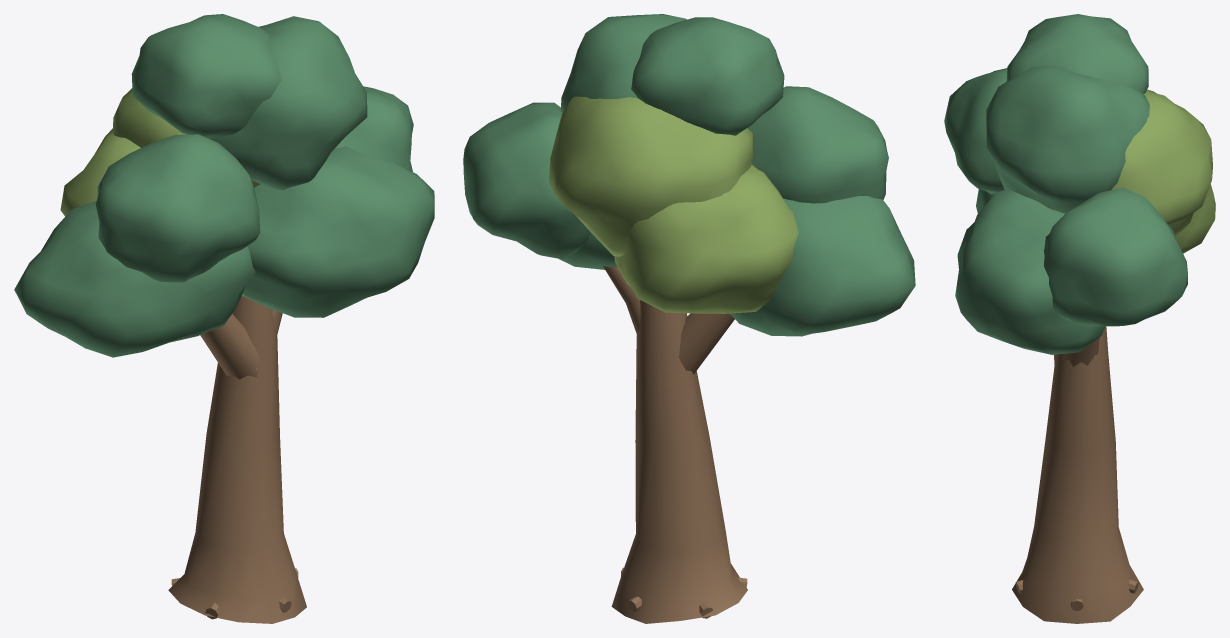
Rendered from AH03_TreeB.fbx.
3 views of the same model, side by side, from view 1: azimuth 30°, elevation 25°; view 2: azimuth 150°, elevation 25°; view 3: azimuth 270°, elevation 25° (orthographic). The views are drawn at different scales.
Visible parts, largest first — view 1: AH03_TreeB_AH03_Leaf, AH03_TreeB_AH03_Bark, AH03_TreeB_AH03_LeafWarm; view 2: AH03_TreeB_AH03_Leaf, AH03_TreeB_AH03_LeafWarm, AH03_TreeB_AH03_Bark; view 3: AH03_TreeB_AH03_Leaf, AH03_TreeB_AH03_Bark, AH03_TreeB_AH03_LeafWarm.
Boxes of the visible parts, left/top/right/bottom form: AH03_TreeB_AH03_Leaf: left=14, top=14, right=434, bottom=357; AH03_TreeB_AH03_Bark: left=168, top=296, right=306, bottom=623; AH03_TreeB_AH03_LeafWarm: left=60, top=88, right=260, bottom=216; AH03_TreeB_AH03_Leaf: left=463, top=14, right=915, bottom=336; AH03_TreeB_AH03_LeafWarm: left=549, top=96, right=798, bottom=313; AH03_TreeB_AH03_Bark: left=603, top=266, right=747, bottom=623; AH03_TreeB_AH03_Leaf: left=944, top=14, right=1187, bottom=354; AH03_TreeB_AH03_Bark: left=1012, top=326, right=1143, bottom=623; AH03_TreeB_AH03_LeafWarm: left=1111, top=89, right=1215, bottom=253.
Bounding box in the file's own units: 485 × 660 × 288.
